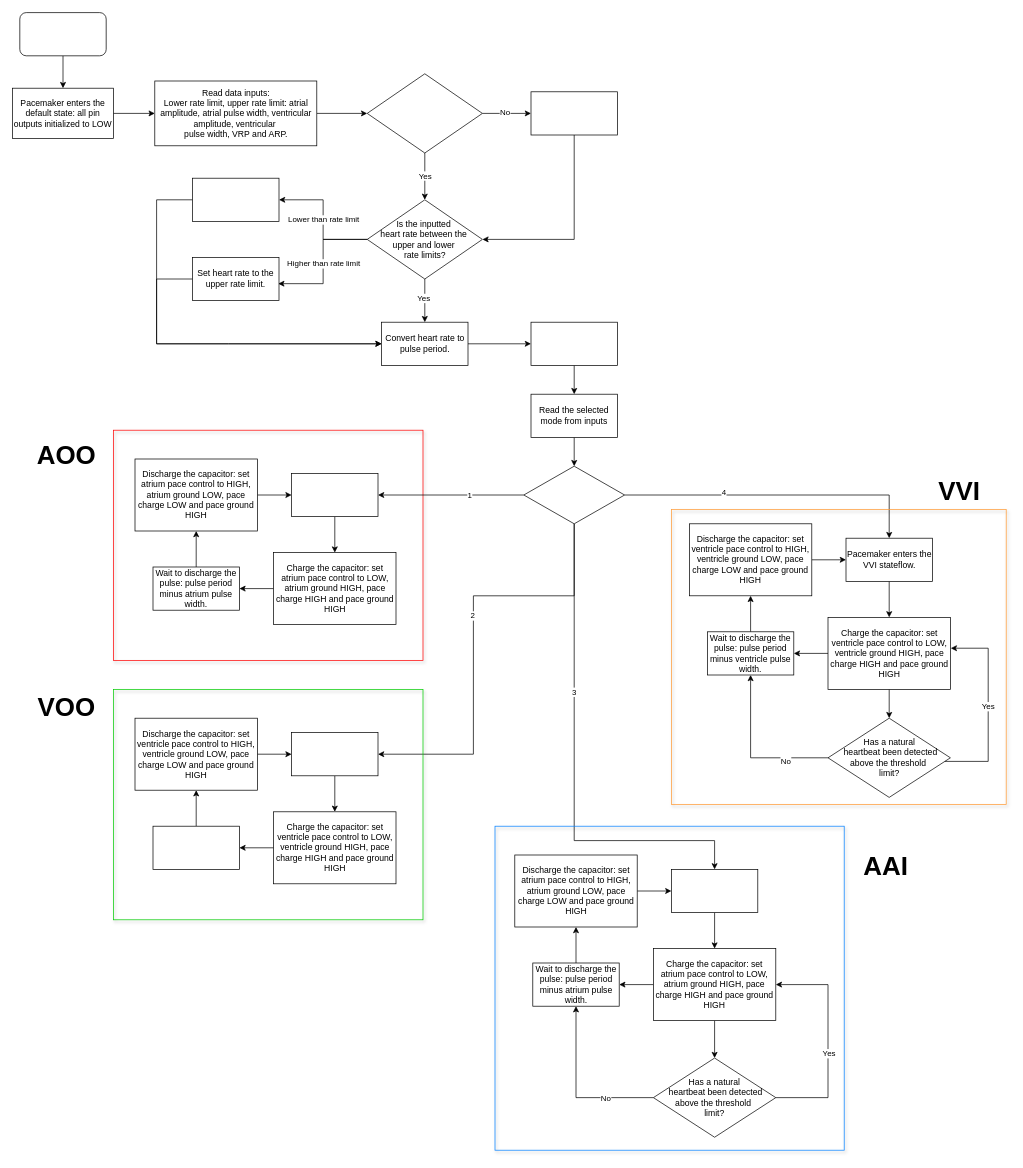
The diagram is 1023 pixels wide and 1168 high, and some of its shapes have lost their labels. Here are the shapes that lost their labels. From the top down, the centre of each, then its label:
[62,34]: Pacemaker built and deployed (start)
[424,113]: Are the inputted pulse widths within a safe threshold?
[573,113]: Set pulse width to the max safe allowable length.
[235,199]: Set heart rate to the lower rate limit.
[573,343]: Convert inputted amplitudes from volts to PWM
[334,495]: Pacemaker enters the AOO stateflow.
[574,494]: What number is inputted?
[334,754]: Pacemaker enters the VOO stateflow.
[195,847]: Wait to discharge the pulse: pulse period.
[714,891]: Pacemaker enters the AAI stateflow.
